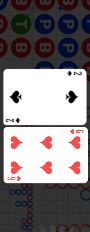10H: (7, 174, 24, 181)
AC: (5, 117, 22, 124)
